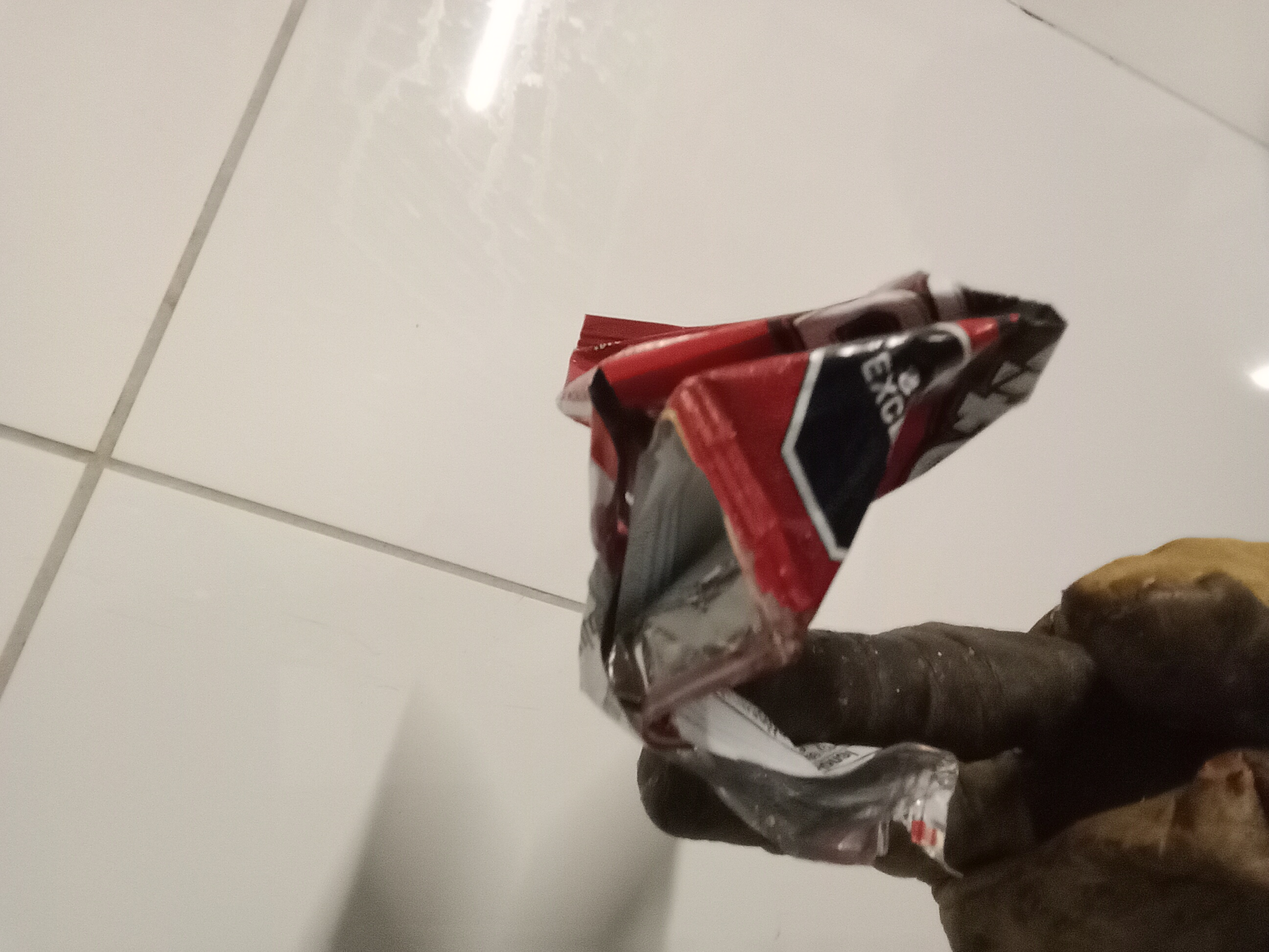Ordinario: (556, 271, 1070, 882)
